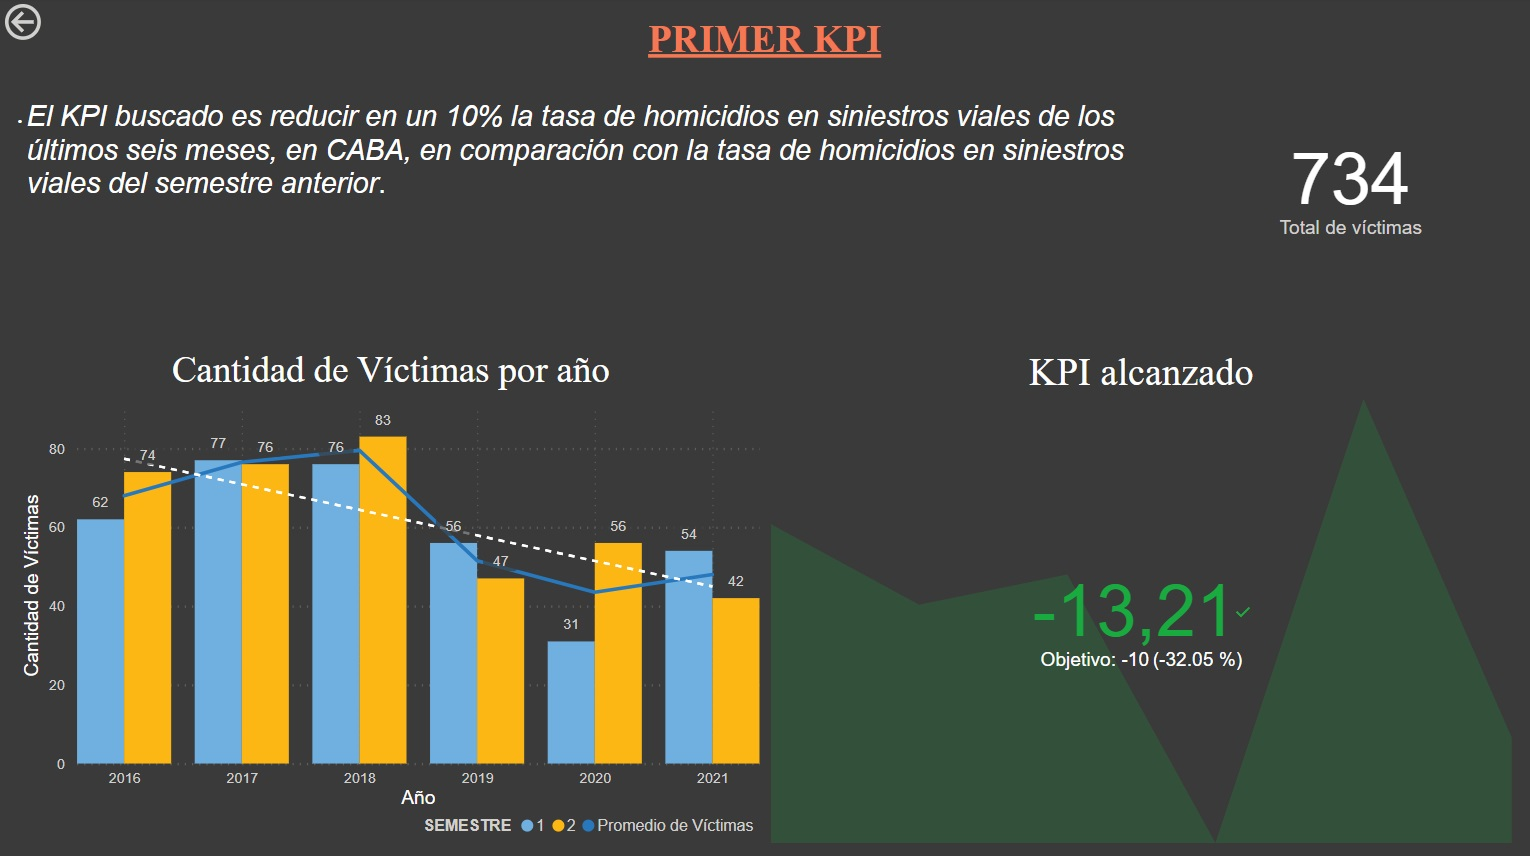

Layout of this report page (visuals, bound fields, positions):
{"tool":"powerbi","page":{"name":"KPI_1","canvas":[1280,720],"ordinal":3},"visuals":[{"type":"kpi","title":"KPI alcanzado","fields":{"TrendLine":["kpi1.ANIO"],"Indicator":["Avg(kpi1.VAR_TASA)"],"Goal":["kpi1.KPI_1 <"]},"box":[640.2,269.6,602.1,415],"z":0},{"type":"lineClusteredColumnComboChart","title":"Cantidad de Víctimas por año","fields":{"Category":["kpi1.ANIO"],"Y":["Sum(kpi1.N_VICTIMAS)"],"Y2":["Avg(kpi1.N_VICTIMAS)"],"Series":["kpi1.SEMESTRE"]},"box":[49.7,269.6,590.5,415],"z":1000},{"type":"actionButton","box":[0,0,100,40],"z":2000},{"type":"card","fields":{"Values":["Sum(kpi1.N_VICTIMAS)"]},"box":[978,79.8,264.2,149.9],"z":3000},{"type":"textbox","box":[522.3,39.9,235,56.7],"z":4000},{"type":"textbox","box":[49.7,132.1,928.4,98.4],"z":5000}]}

Visuals, with their boxes in screenshot pixels (x1, y1, x2, y2), scaled from the page's 1280x720 canvas onto the 1530x856 screenshot:
"KPI alcanzado" kpi: 765 321 1485 814
"Cantidad de Víctimas por año" lineClusteredColumnComboChart: 59 321 765 814
actionButton: 0 0 120 48
card - Sum(kpi1.N_VICTIMAS): 1169 95 1485 273
textbox: 624 47 905 115
textbox: 59 157 1169 274
